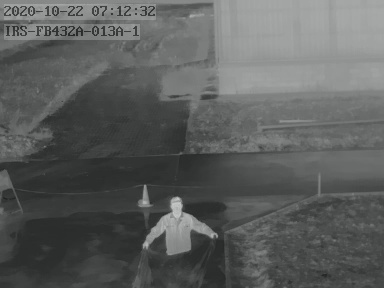person: (142, 193, 219, 258)
